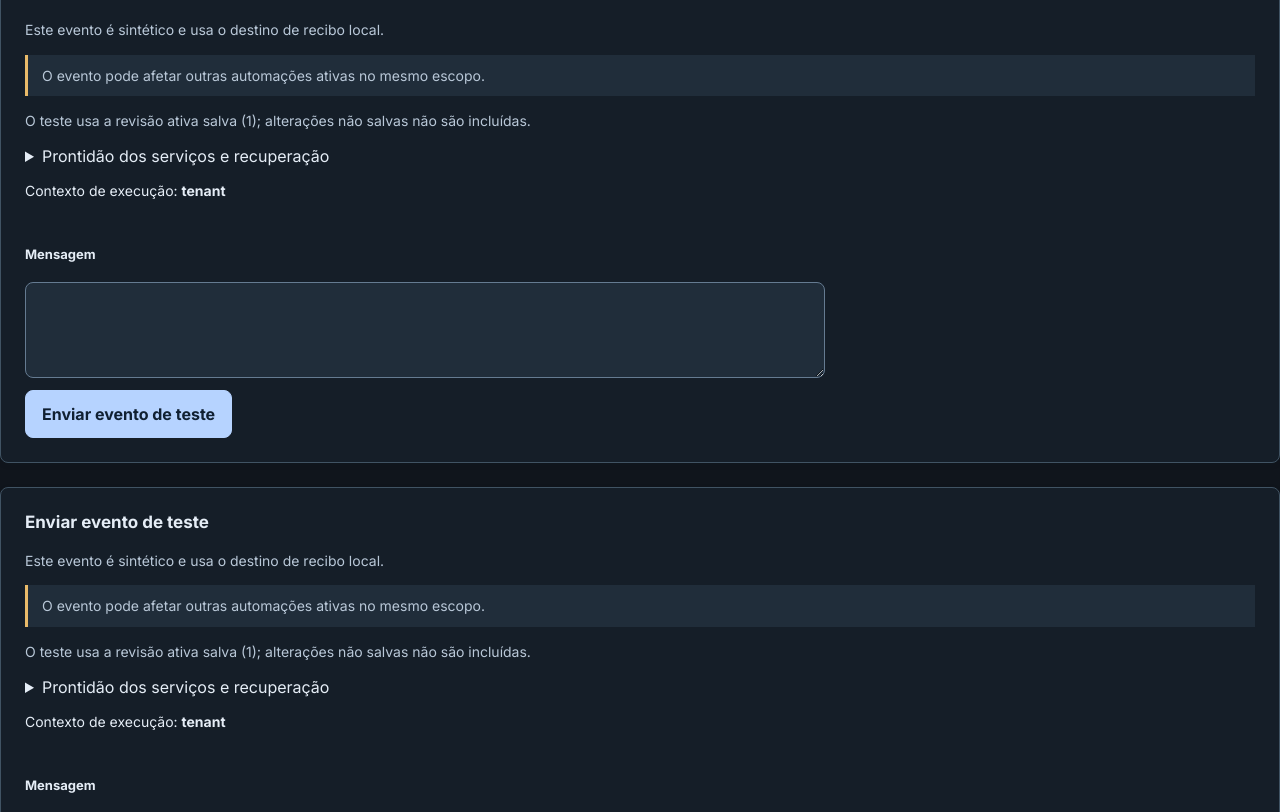
Scenario: shares one POST between mounted panels
Type "original" into the 1st text box labelled "Mensagem". click: (425,330)
box: [25,282,825,378]
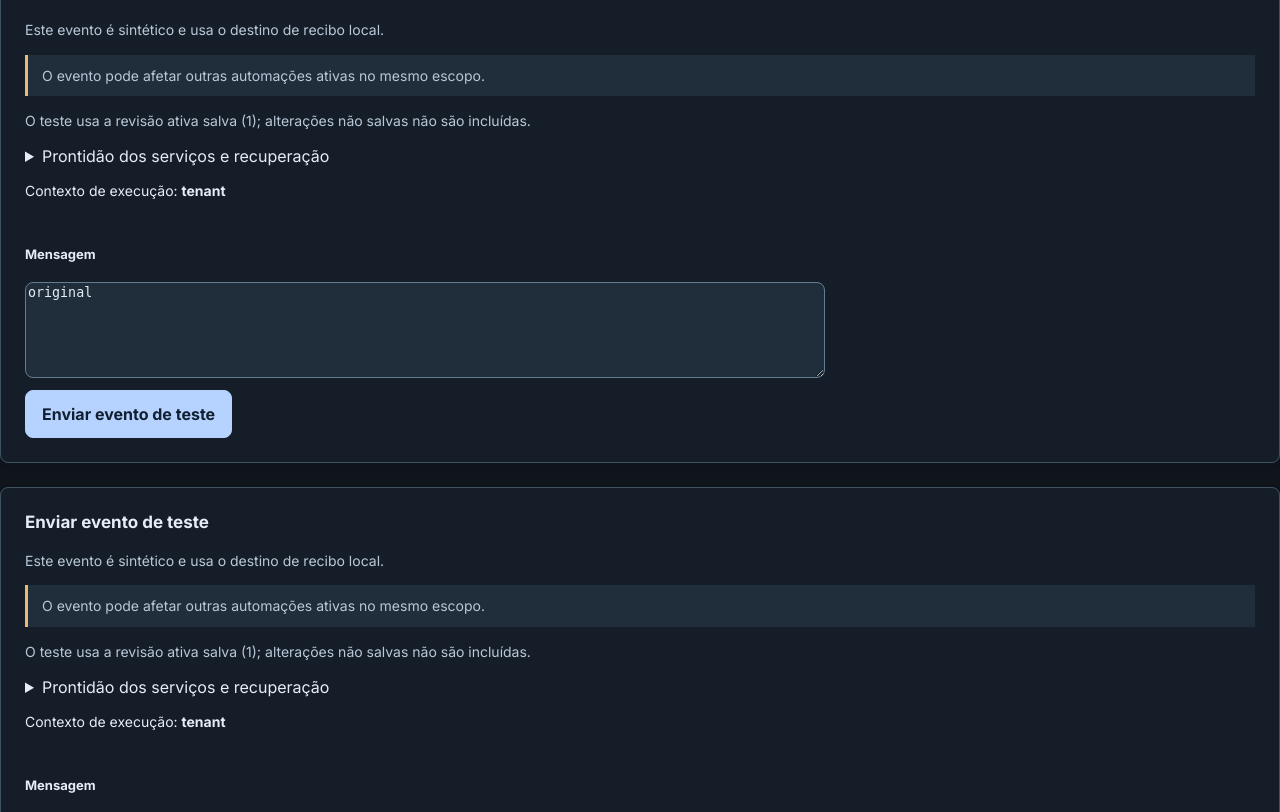
Click the button "Enviar evento de teste". click: (129,414)
box: [25,390,232,438]
(page scrolled)
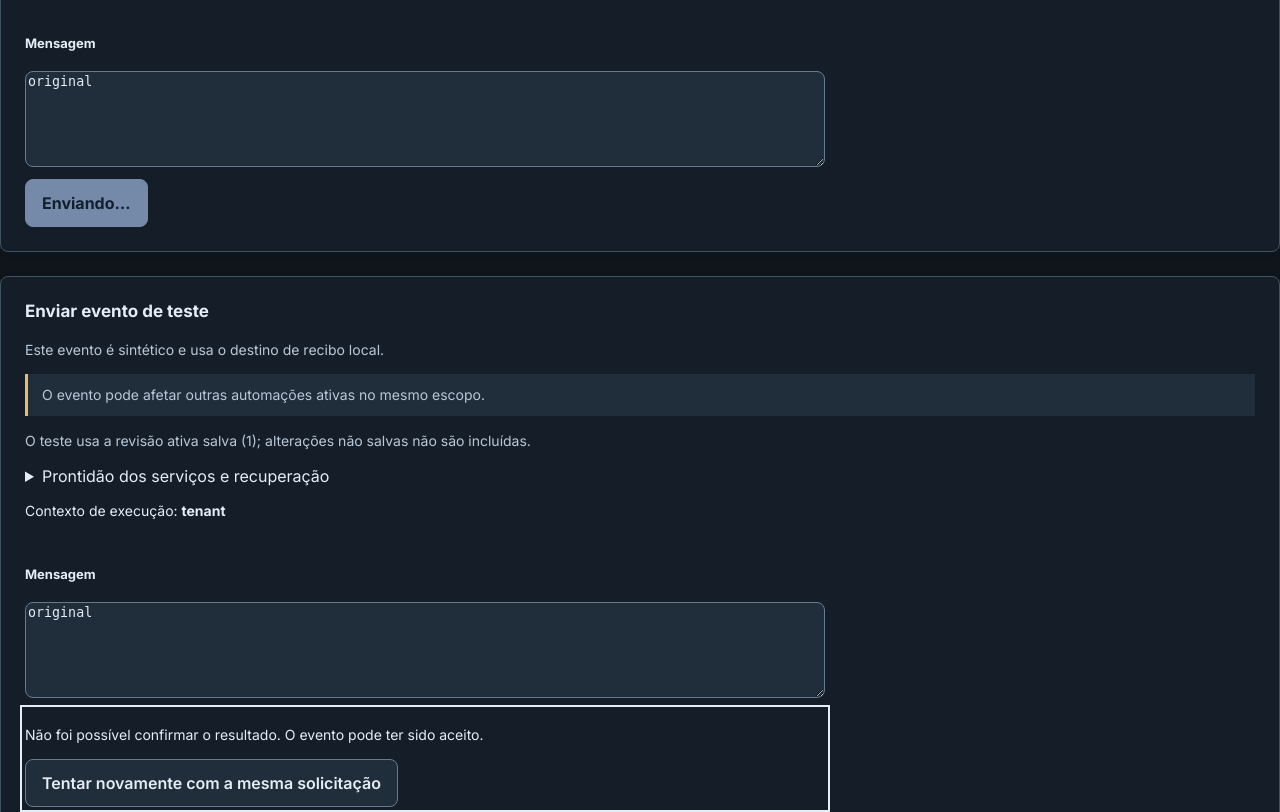
Click the button "Tentar novamente com a mesma solicitação". click: (211,783)
box: [25,759,398,807]
(page scrolled)
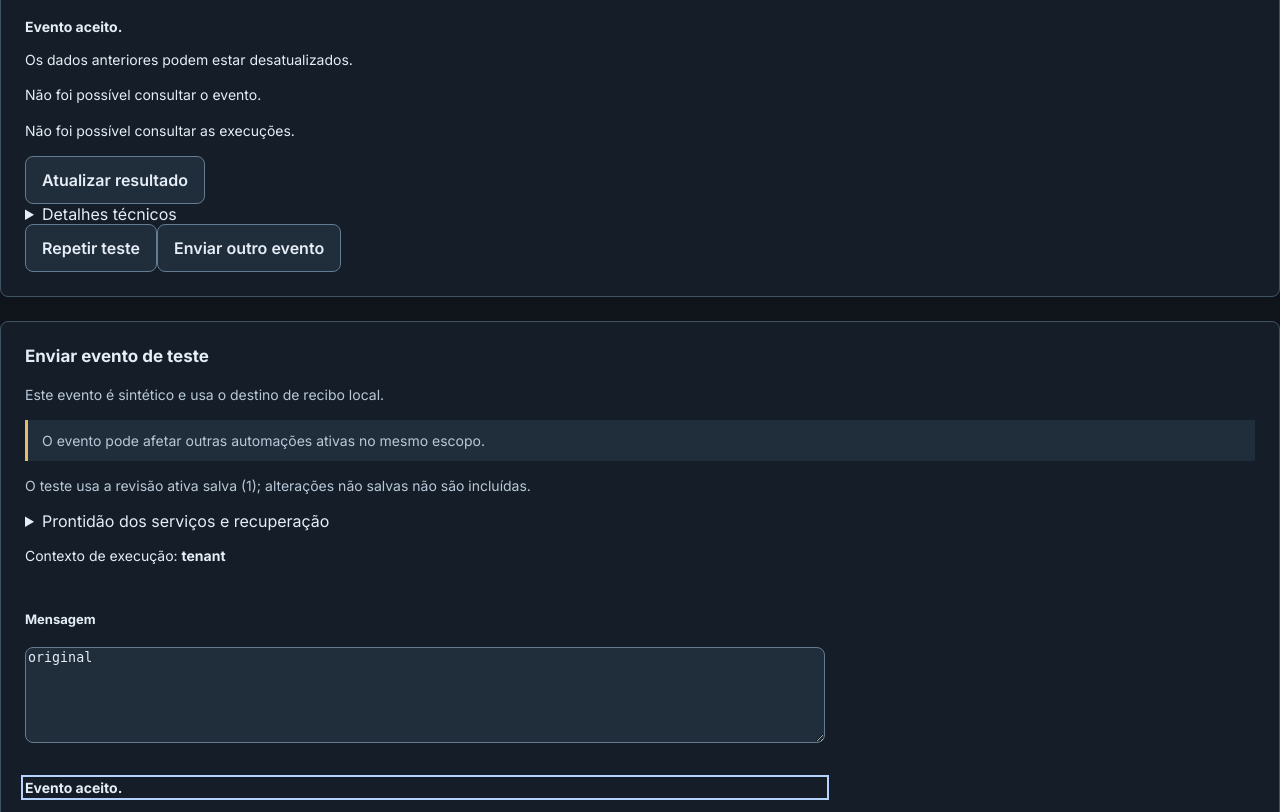
Result: the 2nd heading "Evento aceito." is shown at [25,779,122,796]
